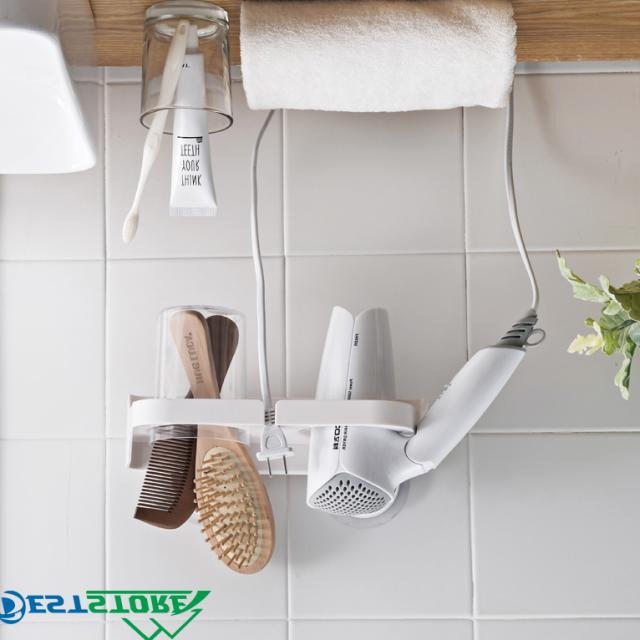dryer: (294, 123, 567, 544), (303, 288, 550, 522)
